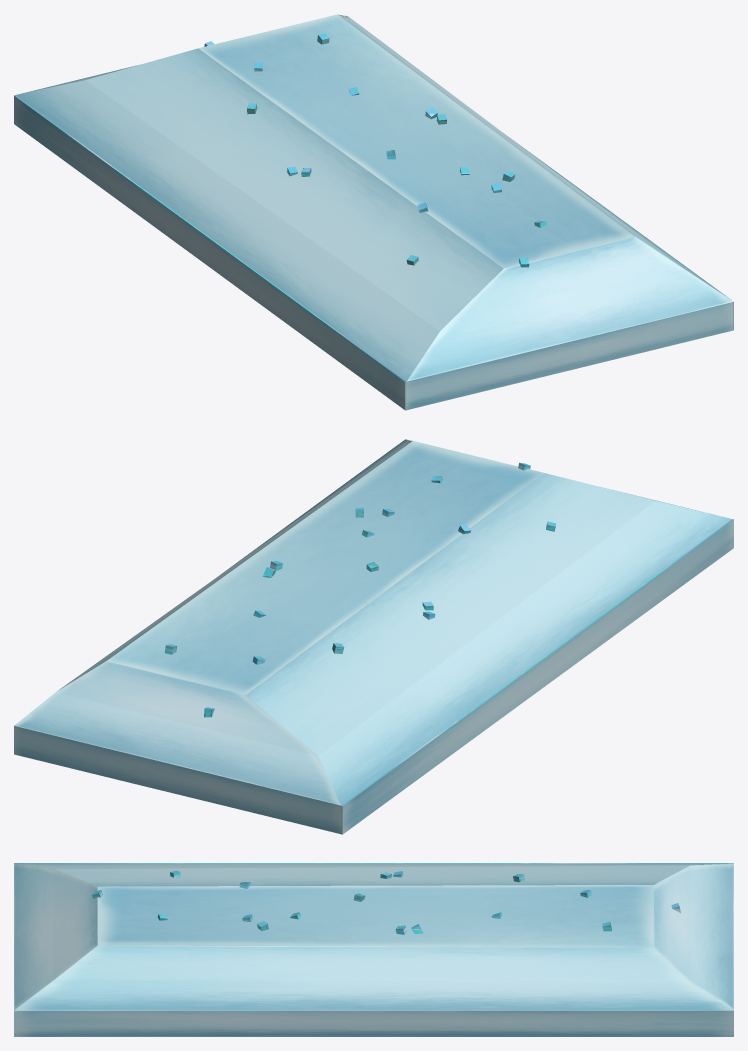
File: icecubes.glb
3 renders of one model, top to bottom at view 1: azimuth 30°, elevation 25°; view 2: azimuth 150°, elevation 25°; view 3: azimuth 270°, elevation 25°, orthographic. The views are drawn at different scales.
Visible parts, largest first — view 1: Cube-col; view 2: Cube-col; view 3: Cube-col.
Boxes of the visible parts, x1,y1,x2,y2 form: Cube-col: [14, 14, 733, 410]; Cube-col: [14, 439, 733, 834]; Cube-col: [14, 863, 733, 1036].
Size of the model in its own units: 3.37 by 0.8029 by 6.96.
1 material, 1 textured.
